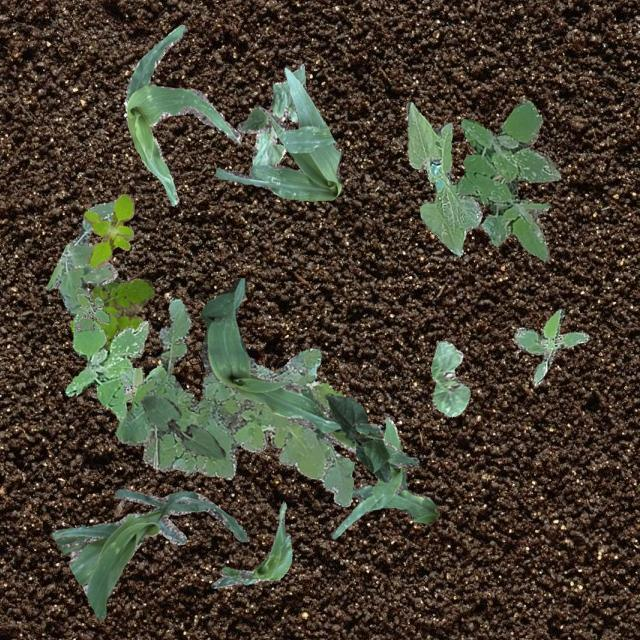crop: (200, 276, 418, 466), (51, 488, 246, 618), (122, 23, 240, 205), (214, 66, 340, 200), (330, 416, 438, 538), (404, 100, 482, 256), (210, 501, 292, 587), (237, 62, 305, 164), (324, 392, 389, 482), (140, 394, 224, 458), (430, 338, 470, 416)
weed: (114, 296, 354, 506), (454, 100, 560, 260), (64, 310, 148, 420), (46, 200, 116, 316), (70, 276, 154, 348), (512, 308, 588, 384), (81, 194, 132, 266), (118, 362, 162, 401), (74, 292, 110, 332)
